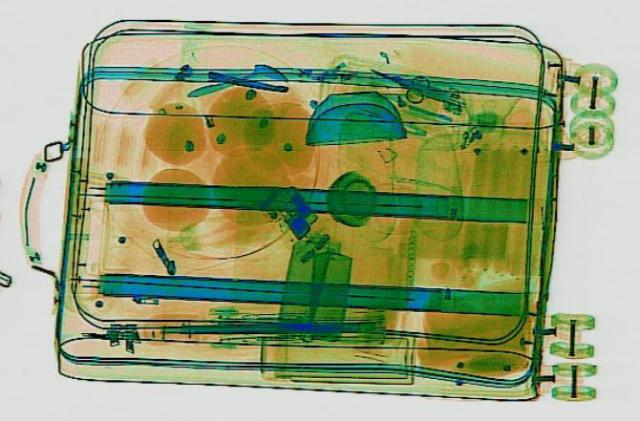Scissors: (356, 59, 439, 103)
